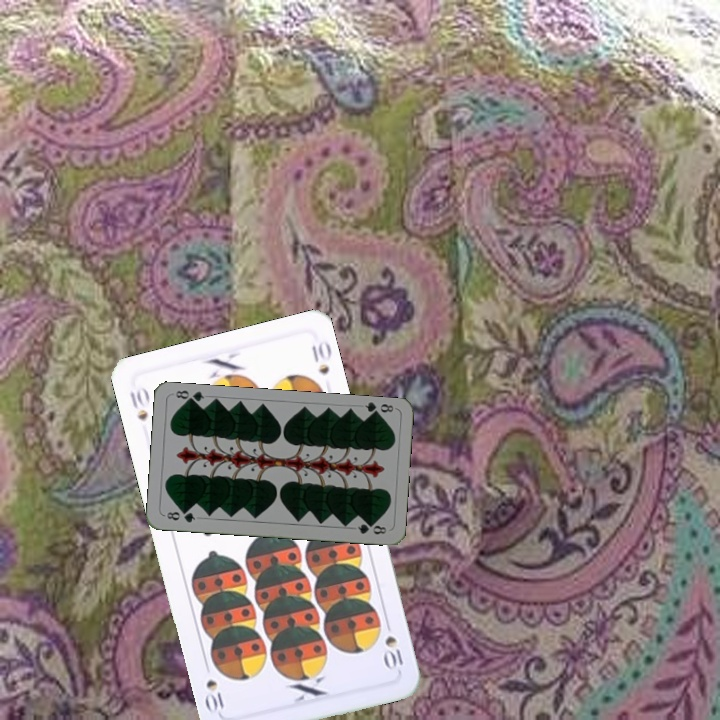G8: (361, 399, 396, 419), (161, 507, 198, 525)
S10: (380, 615, 406, 673), (126, 382, 152, 424)
